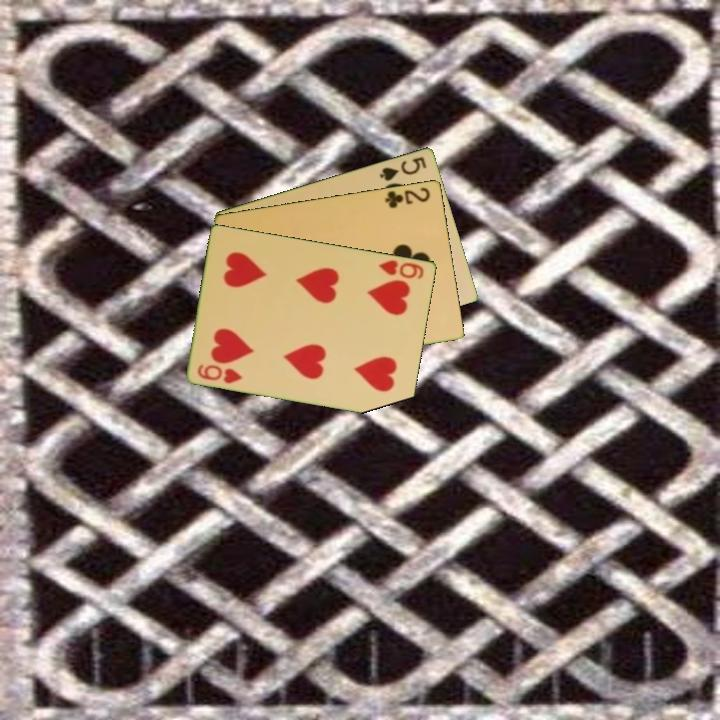2c: (382, 183, 433, 211)
5s: (376, 153, 429, 184)
6h: (376, 256, 427, 282), (194, 360, 245, 386)
